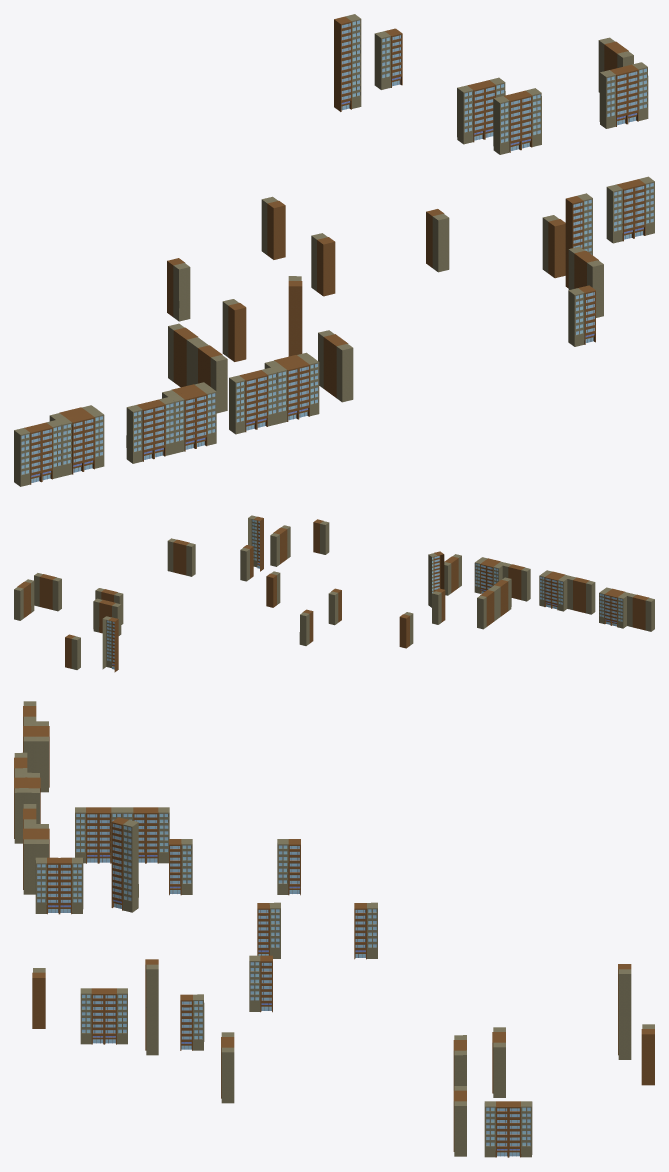
The model's file is tokyo_track_bldg_city_02.dae.
The picture shows the model from 3 angles, top to bottom: view 1: azimuth 30°, elevation 25°; view 2: azimuth 150°, elevation 25°; view 3: azimuth 270°, elevation 25°; orthographic projection. The views are drawn at different scales.
Parts seen in each view (by area): view 1: bldg_city_02; view 2: bldg_city_02; view 3: bldg_city_02.
Part boxes in pixels (x1,y1,x2,y2): bldg_city_02: (14,14,654,486); bldg_city_02: (14,515,654,672); bldg_city_02: (14,701,654,1157).
Size of the model in its own units: 852 by 84.37 by 569.
4 materials, 4 textured.
